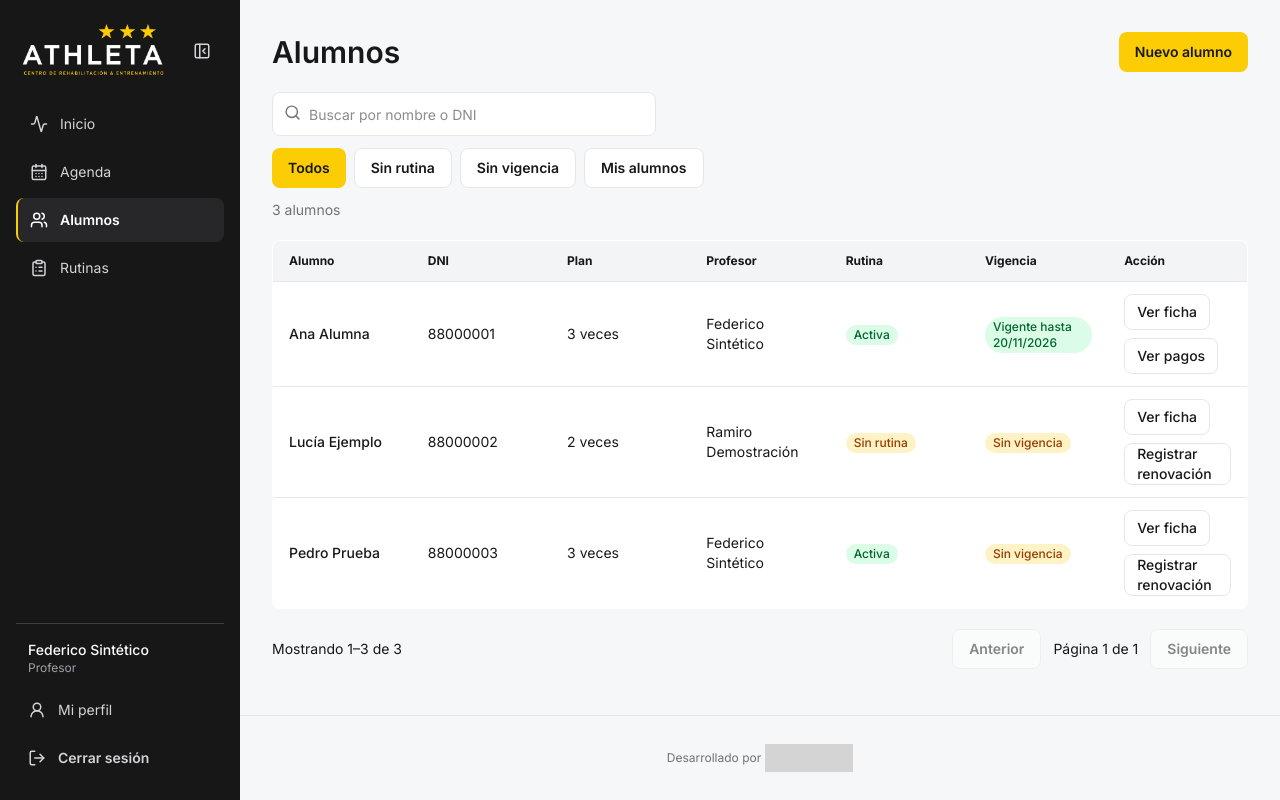
filters by Sin rutina and returns to Todos
Expected: the text "Ana Alumna" is shown, x1=272 y1=282 x2=412 y2=386
Step 1. Click the button "Sin rutina" → click(403, 168), box x1=354 y1=148 x2=452 y2=188
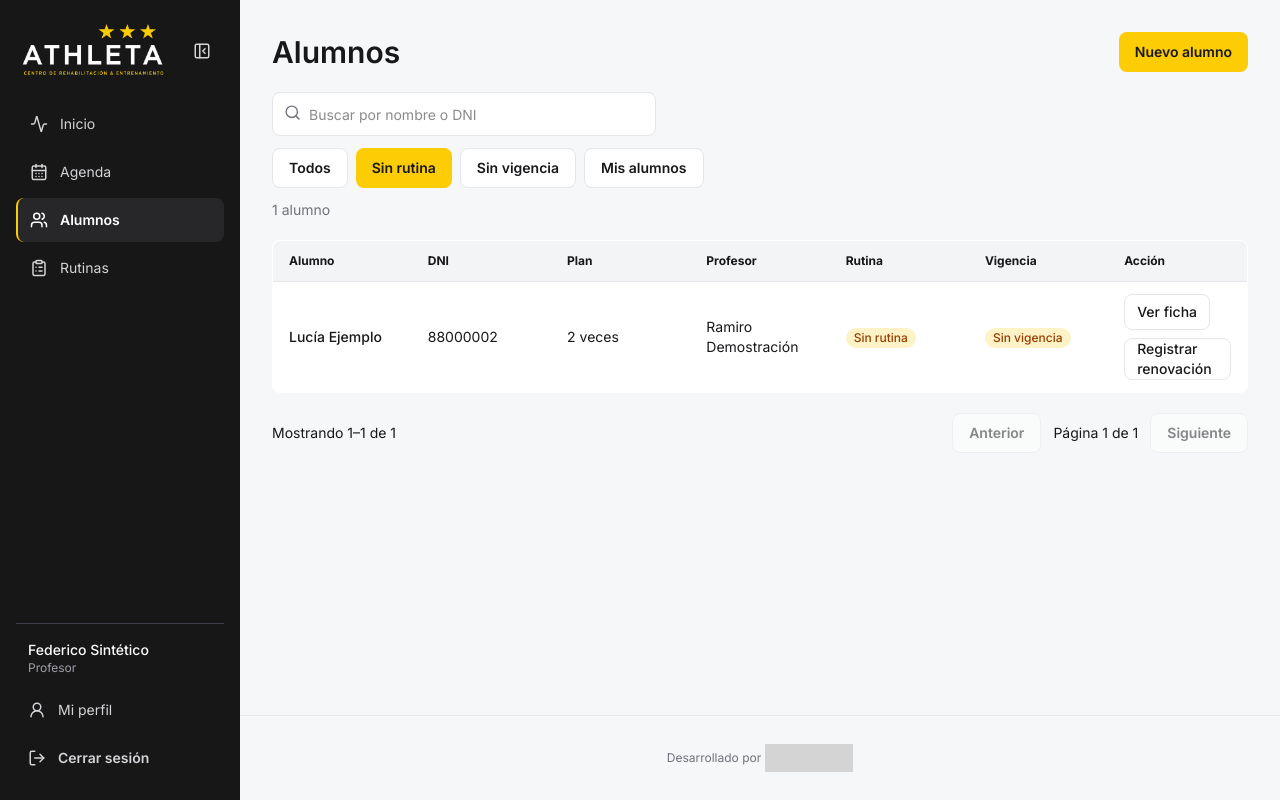
Expected: the number of links "Ver ficha" is 1, x1=1124 y1=294 x2=1210 y2=330
Expected: the text "Ana Alumna" is gone
Step 2. Click the button "Todos" → click(310, 168), box x1=272 y1=148 x2=348 y2=188
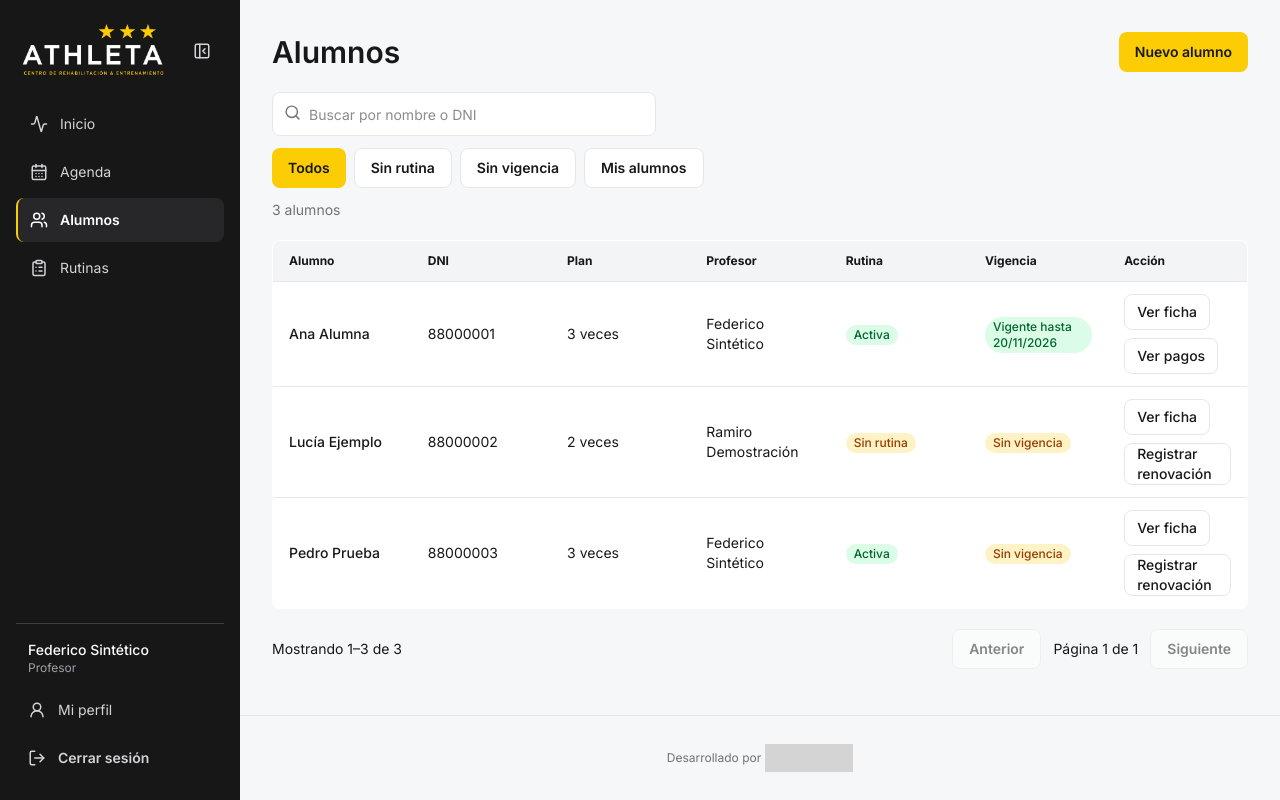
Expected: the number of links "Ver ficha" is 3, x1=1124 y1=294 x2=1210 y2=330; x1=1124 y1=399 x2=1210 y2=435; x1=1124 y1=510 x2=1210 y2=546
